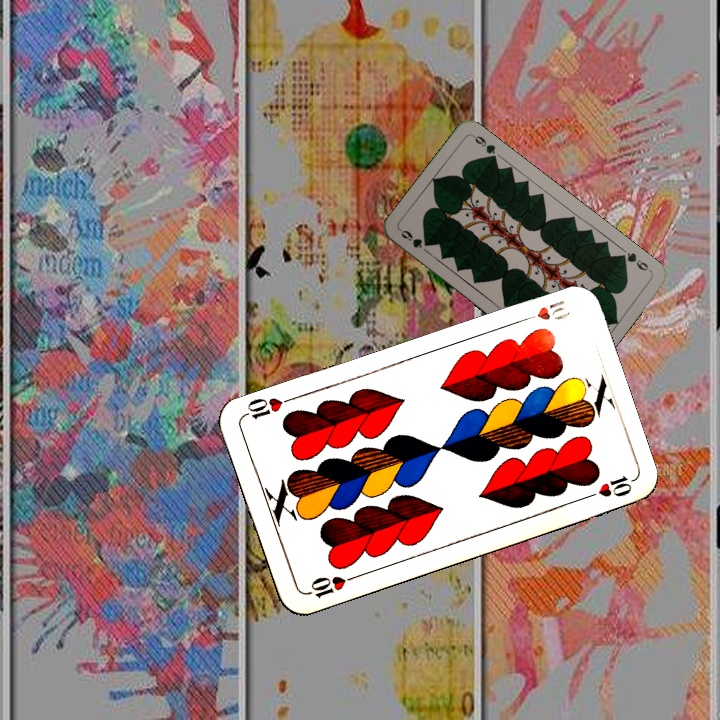G9: (615, 248, 654, 275), (396, 226, 425, 251)
H10: (302, 571, 360, 601), (516, 296, 573, 325)
